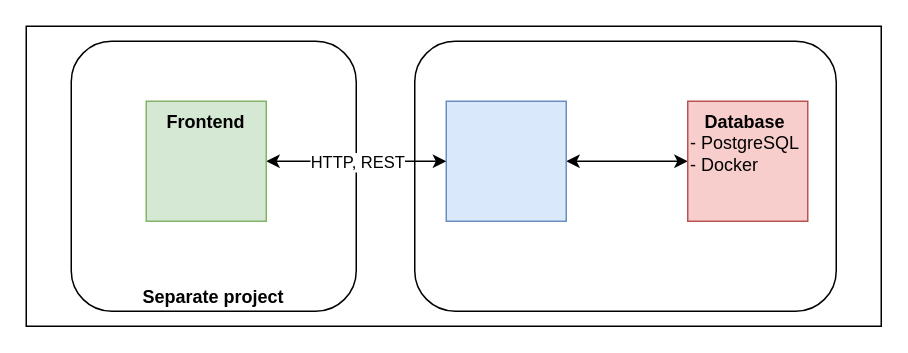
Image size: 908x353. Some labels were removed from this diagram. Here are the shapes that lost their labels. From the top down, the box of each, then its label:
(445, 100, 566, 221): Appserver - Payara - Java - Docker
(413, 40, 836, 311): Provided by this repository
